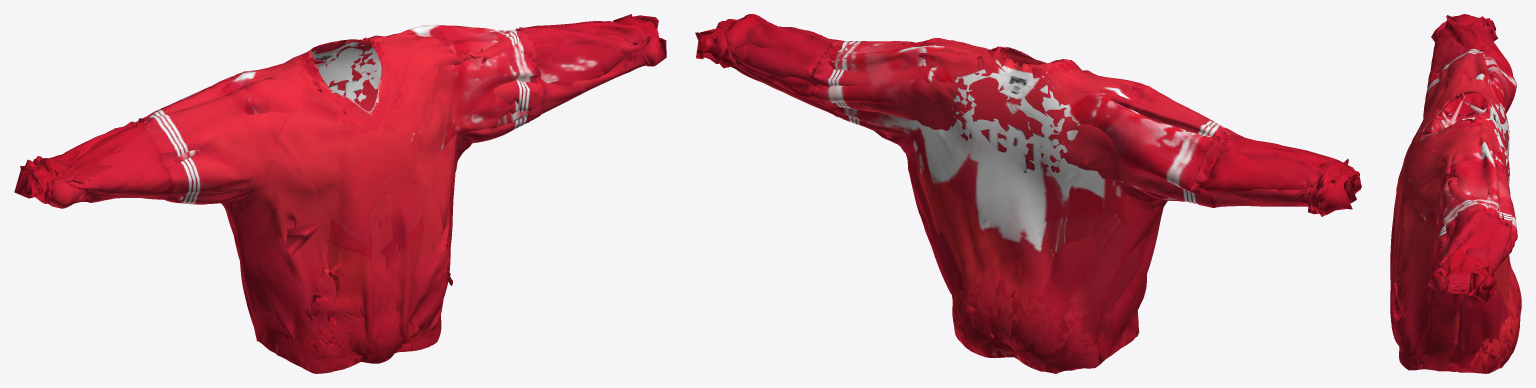
3 views of the same model, side by side, from view 1: azimuth 30°, elevation 25°; view 2: azimuth 150°, elevation 25°; view 3: azimuth 270°, elevation 25° (orthographic). The views are drawn at different scales.
Visible parts, largest first — view 1: Mesh_0.001; view 2: Mesh_0.001; view 3: Mesh_0.001.
Part boxes in pixels (left/top/right/bottom): Mesh_0.001: left=14, top=14, right=666, bottom=373; Mesh_0.001: left=695, top=14, right=1361, bottom=373; Mesh_0.001: left=1390, top=14, right=1521, bottom=373.
Size of the model in its own units: 1.79 by 0.7742 by 0.3711.
Materials: 1 (1 with a texture image).
